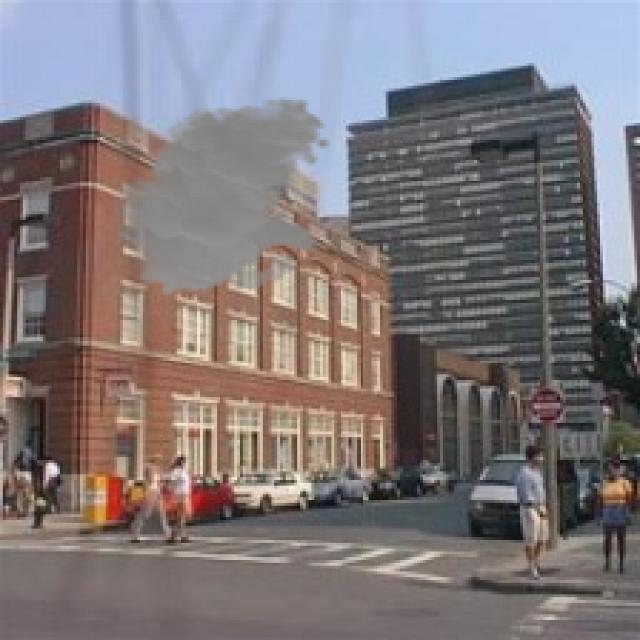smoke: (106, 97, 331, 297)
